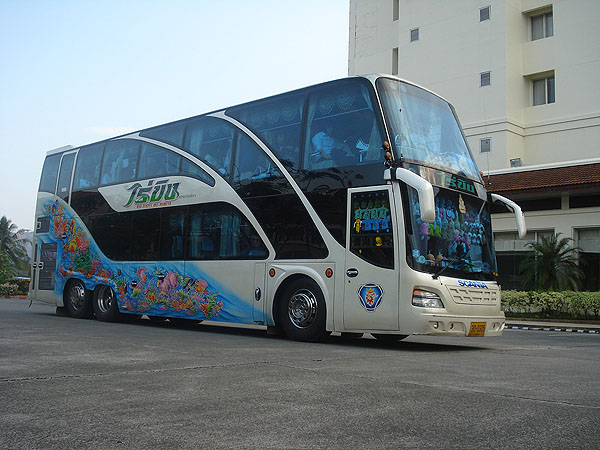bus: (28, 70, 507, 341)
